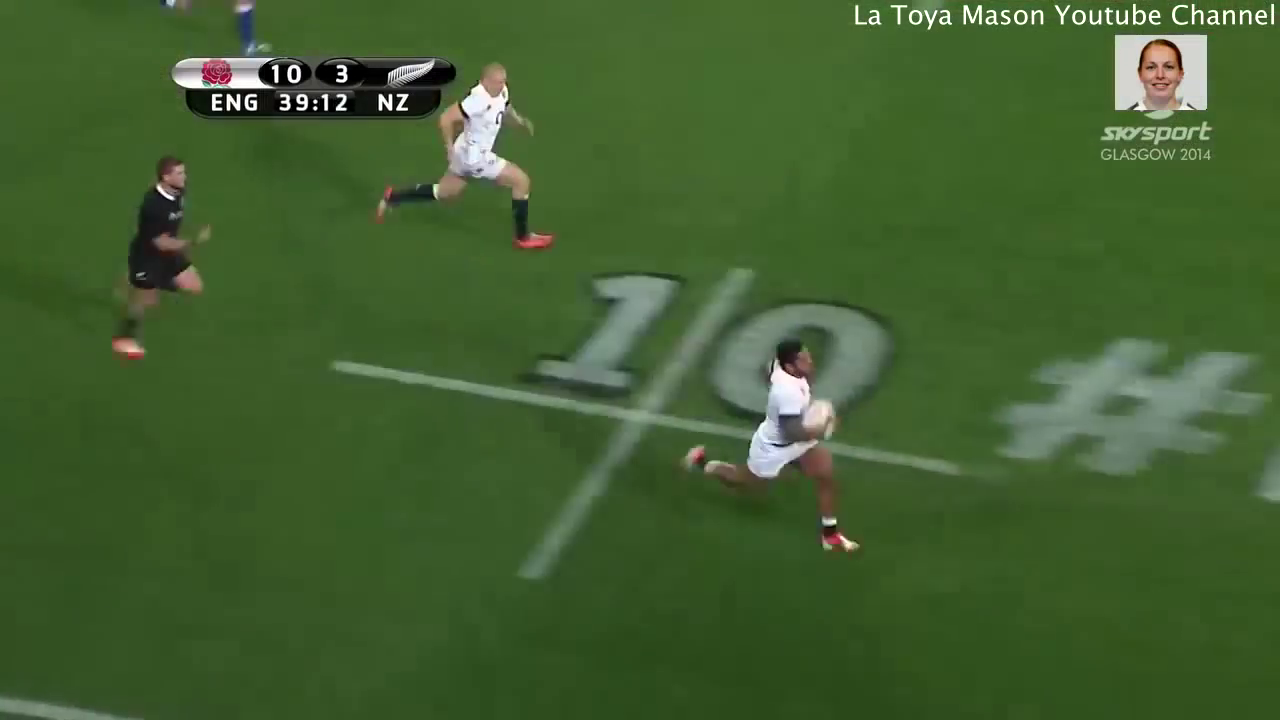10_metre: (325, 249, 977, 597)
ball: (801, 392, 838, 452)
player: (673, 329, 873, 556), (367, 55, 565, 259), (97, 143, 225, 377)
